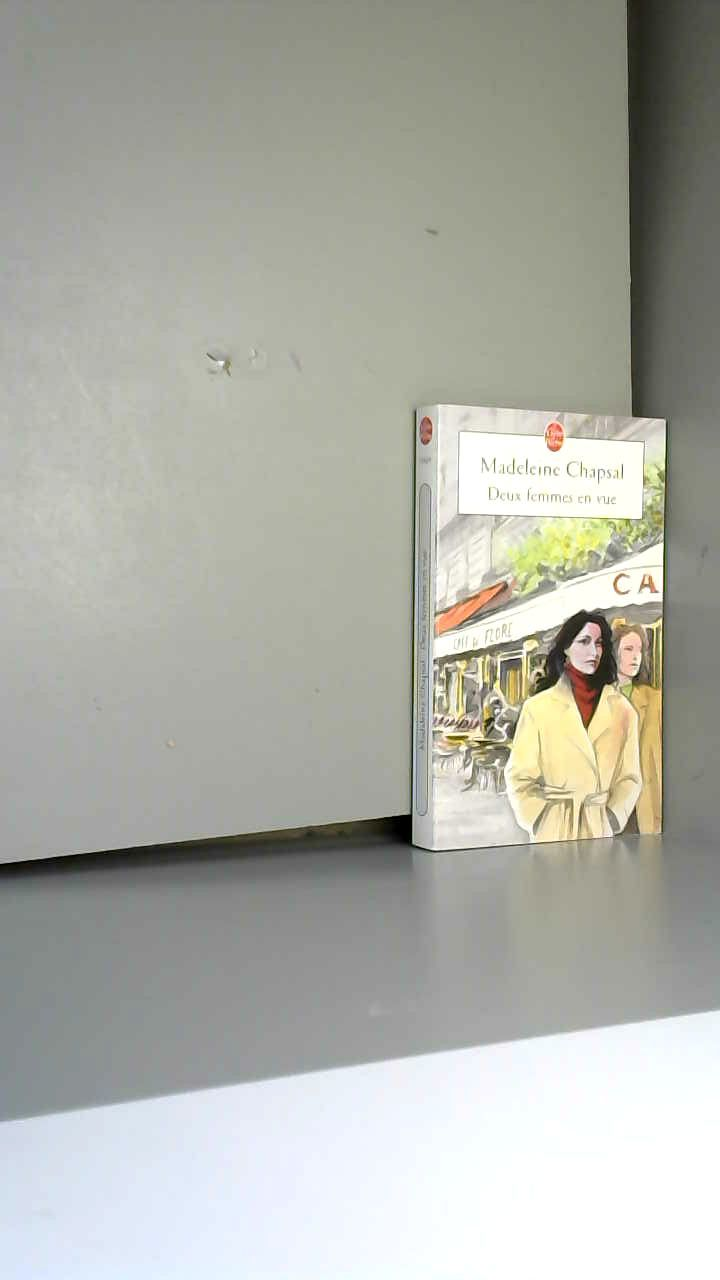book: (390, 380, 716, 903)
